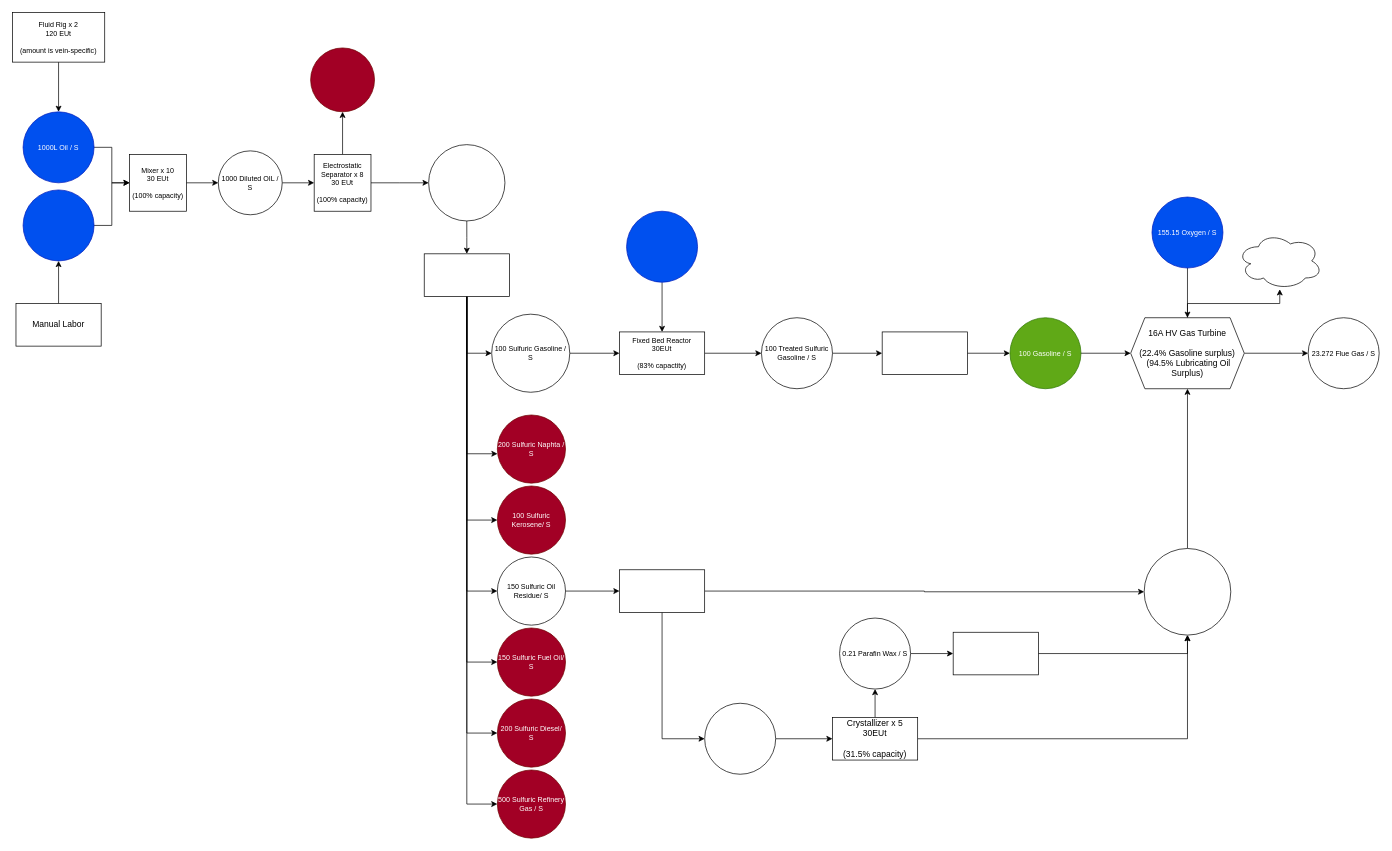
Image size: 1392x851. Some labels were removed from this diagram. The shapes that lost their labels are listed below. From the top down, each one's centre as x and y in pixels, then its label:
At (x=342, y=79): "100L Oily Brine / S (Waste)".
At (x=466, y=182): "1000L Desalted OIL / S".
At (x=58, y=225): "100L Water / S".
At (x=662, y=246): "25 Hydrogen / S".
At (x=1279, y=260): "8192 EU/t (IV)".
At (x=466, y=274): "Distillation Tower x 5 30EUt (100% capactity)".
At (x=924, y=353): "Distillery 7EUt (100% capactity)".
At (x=662, y=590): "Vacuum Distillation Tower x 5 30EUt (90% capactity)".
At (x=1187, y=591): "75 Lubricating Oil/ S + 13.125 / S (Cry) +52.5 / S (Ext) = 140.625 / S".
At (x=995, y=653): "Extractor x 5 30EUt (42% capacity)".
At (x=740, y=738): "52.5 Slack Wax/ S".
